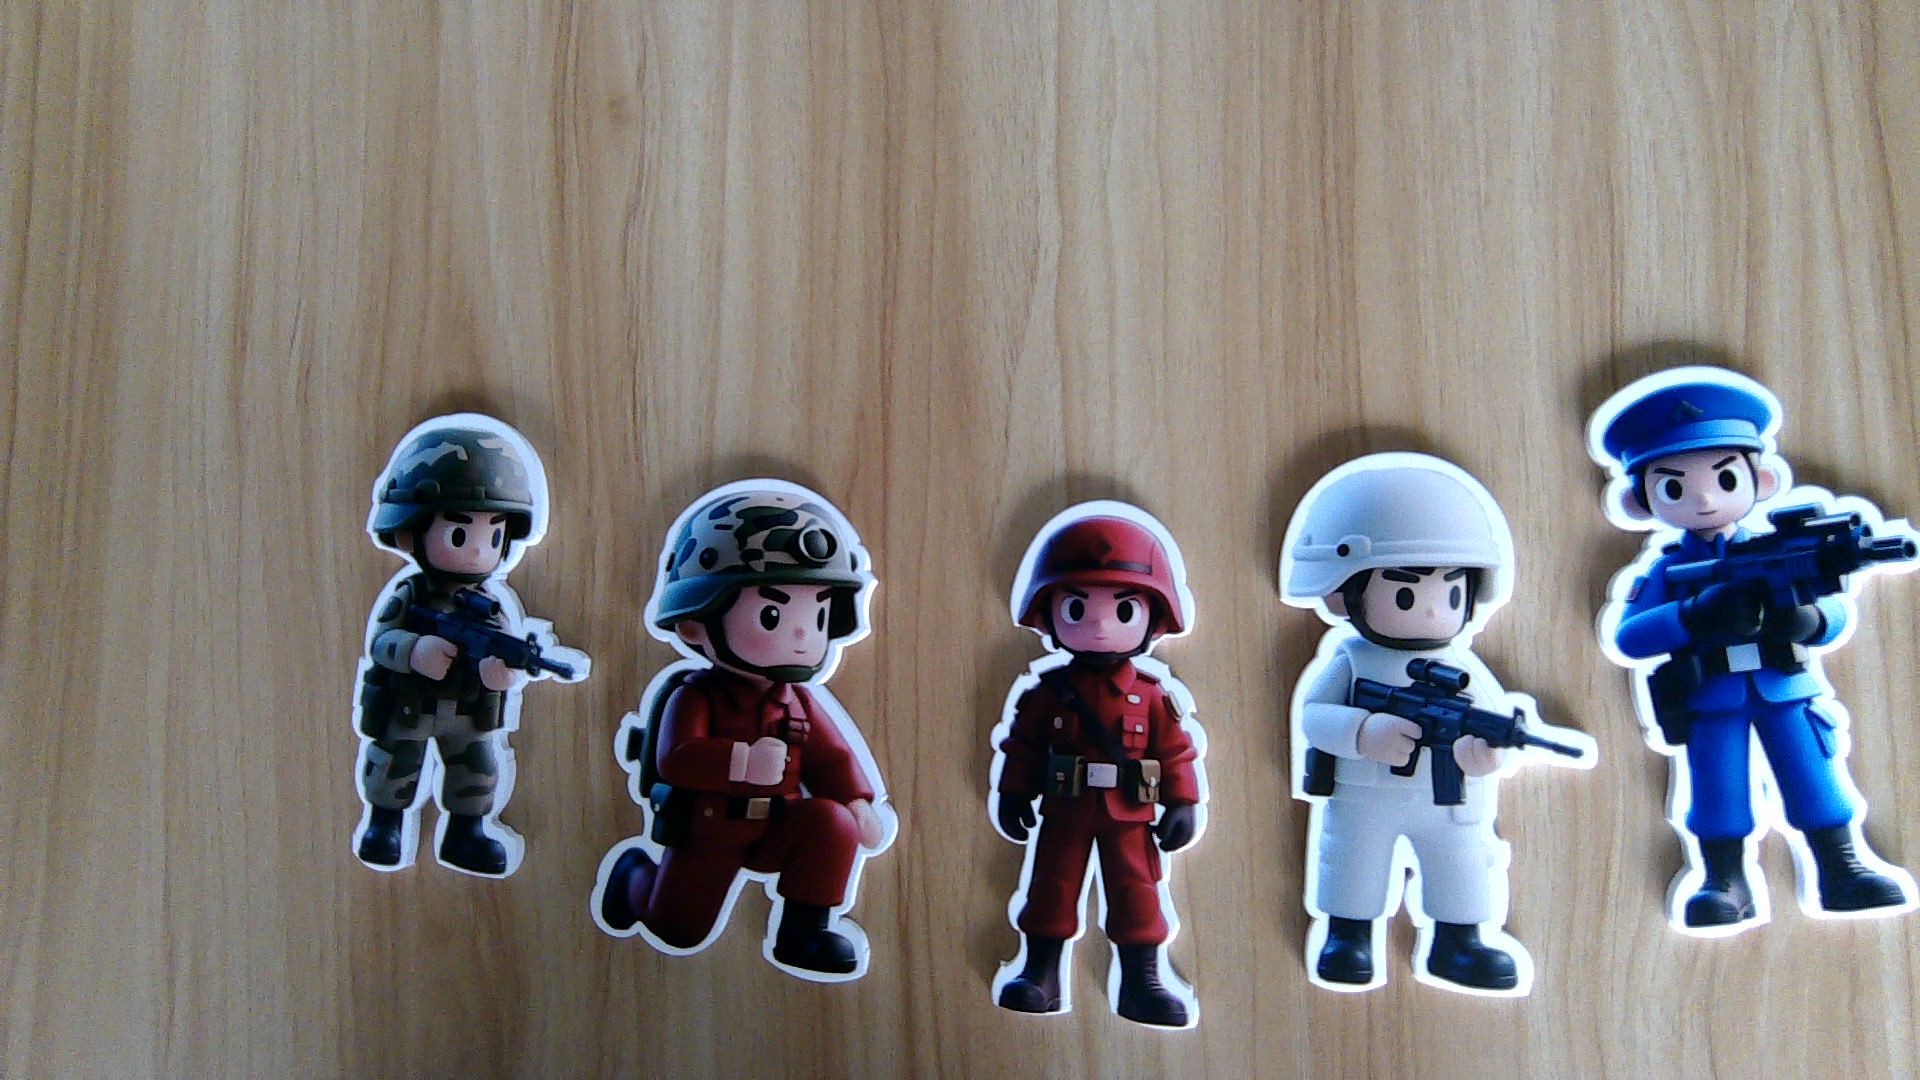人质: (1283, 642, 1586, 996)
友军: (347, 574, 578, 876)
敌人1: (587, 673, 902, 978), (980, 651, 1215, 1036)
敌人2: (1594, 524, 1912, 947)
